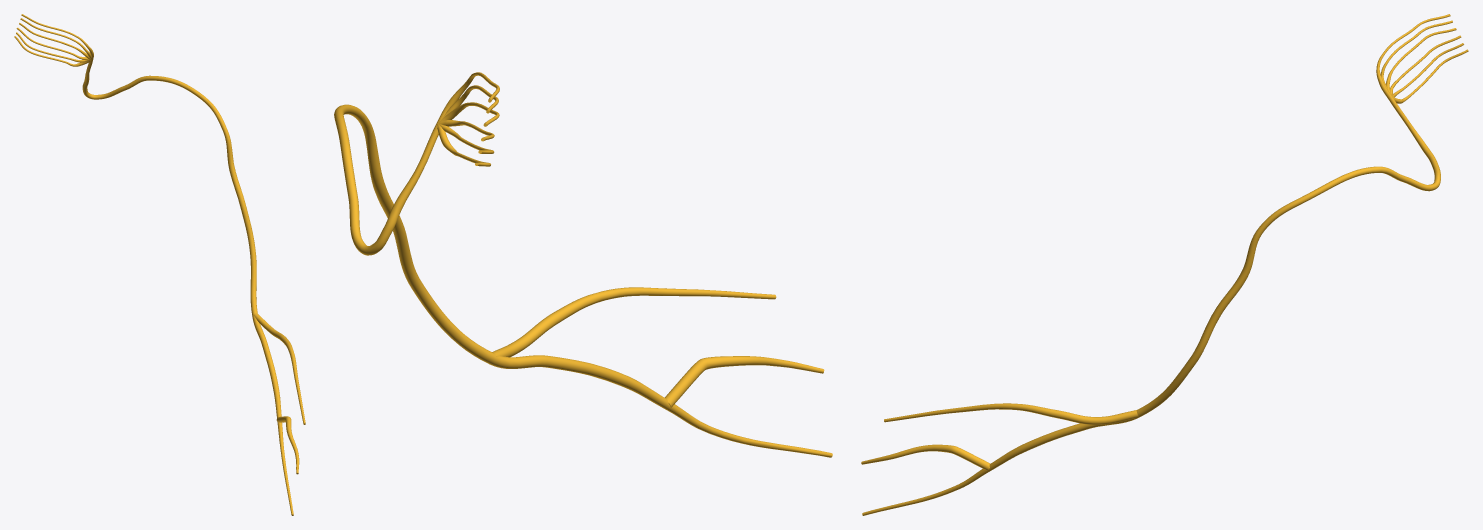
Rendered from nervoso-hypoglossal-nerve-xii-l.glb.
The picture shows the model from 3 angles, left to right: view 1: azimuth 30°, elevation 25°; view 2: azimuth 150°, elevation 25°; view 3: azimuth 270°, elevation 25°; orthographic projection. The views are drawn at different scales.
Parts seen in each view (by area): view 1: Hypoglossal nerve (XII).l; view 2: Hypoglossal nerve (XII).l; view 3: Hypoglossal nerve (XII).l.
Boxes of the visible parts, left/top/right/bottom form: Hypoglossal nerve (XII).l: left=14, top=14, right=305, bottom=515; Hypoglossal nerve (XII).l: left=334, top=72, right=832, bottom=457; Hypoglossal nerve (XII).l: left=861, top=14, right=1468, bottom=515.
Bounding box in the file's own units: 0.0265 × 0.0645 × 0.0757.
